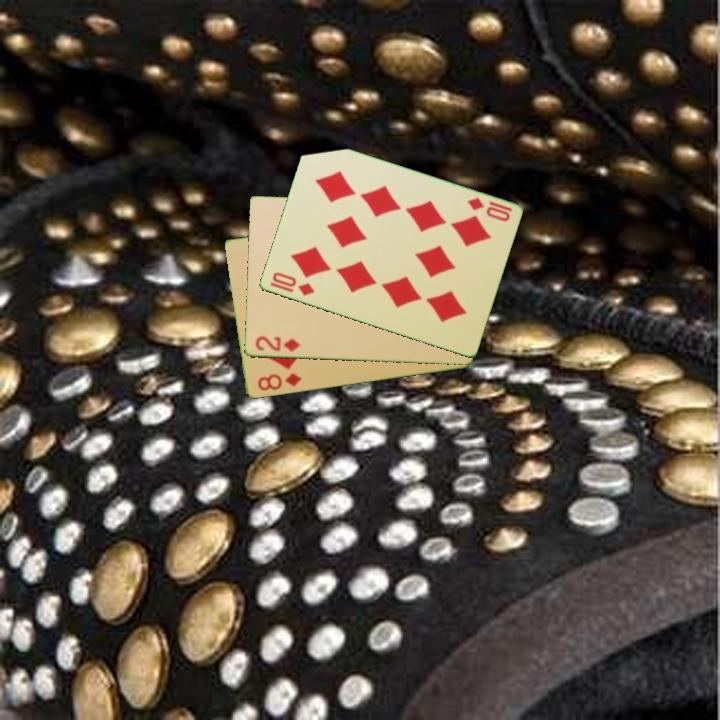10d: (463, 194, 515, 225), (266, 269, 317, 299)
2d: (252, 333, 303, 355)
8d: (254, 370, 304, 394)
